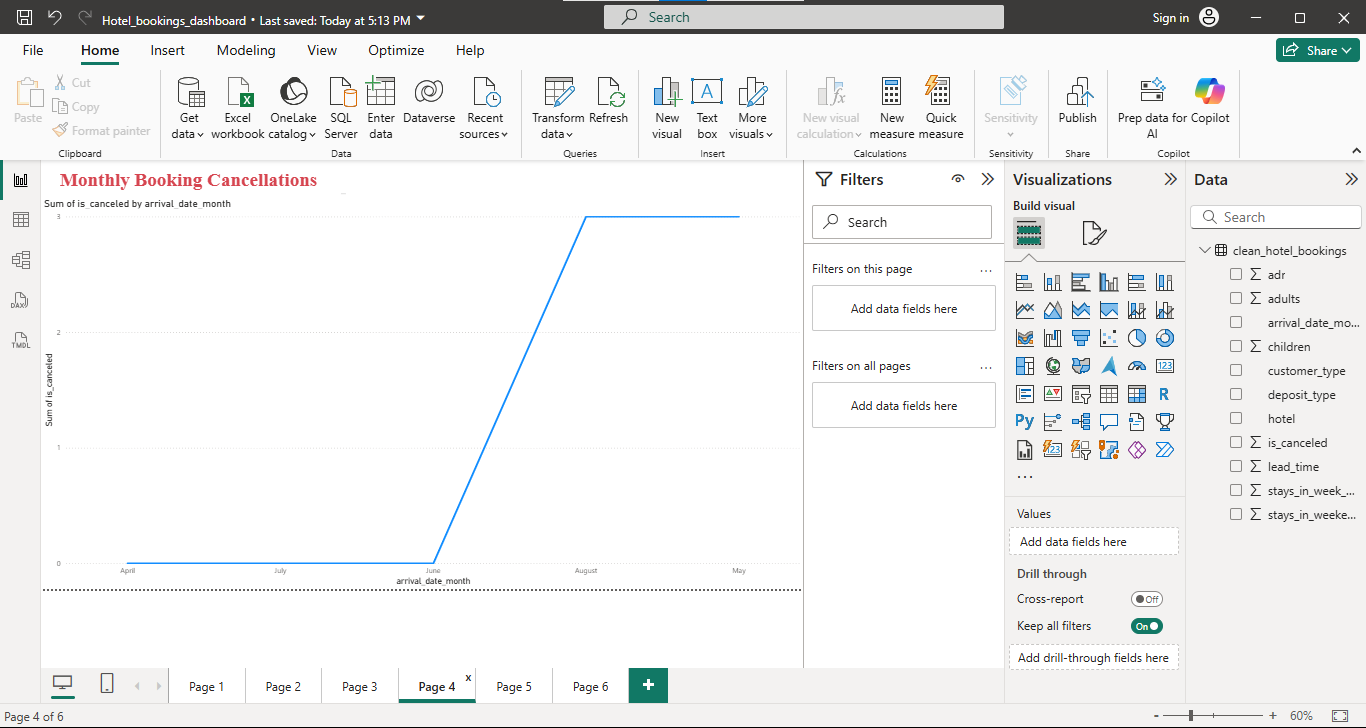

The page's visual inventory and layout, read from the dashboard file:
{"tool":"powerbi","page":{"name":"Page 4","canvas":[1280,720],"ordinal":3},"visuals":[{"type":"lineChart","fields":{"Category":["clean_hotel_bookings.arrival_date_month"],"Y":["Sum(clean_hotel_bookings.is_canceled)"]},"box":[0,62.2,1280,658.5],"z":0},{"type":"textbox","title":"Monthly Booking Cancellations","box":[26.9,15.1,490.5,47],"z":1}]}

Visuals, with their boxes on the page's 1280x720 design canvas (x1, y1, x2, y2). These are canvas units, not pixel positions in the 1366x728 screenshot, which may show the page scaled, cropped or inside an application window:
lineChart - clean_hotel_bookings.arrival_date_month x Sum(clean_hotel_bookings.is_canceled): bbox=(0, 62, 1280, 721)
"Monthly Booking Cancellations" textbox: bbox=(27, 15, 517, 62)
